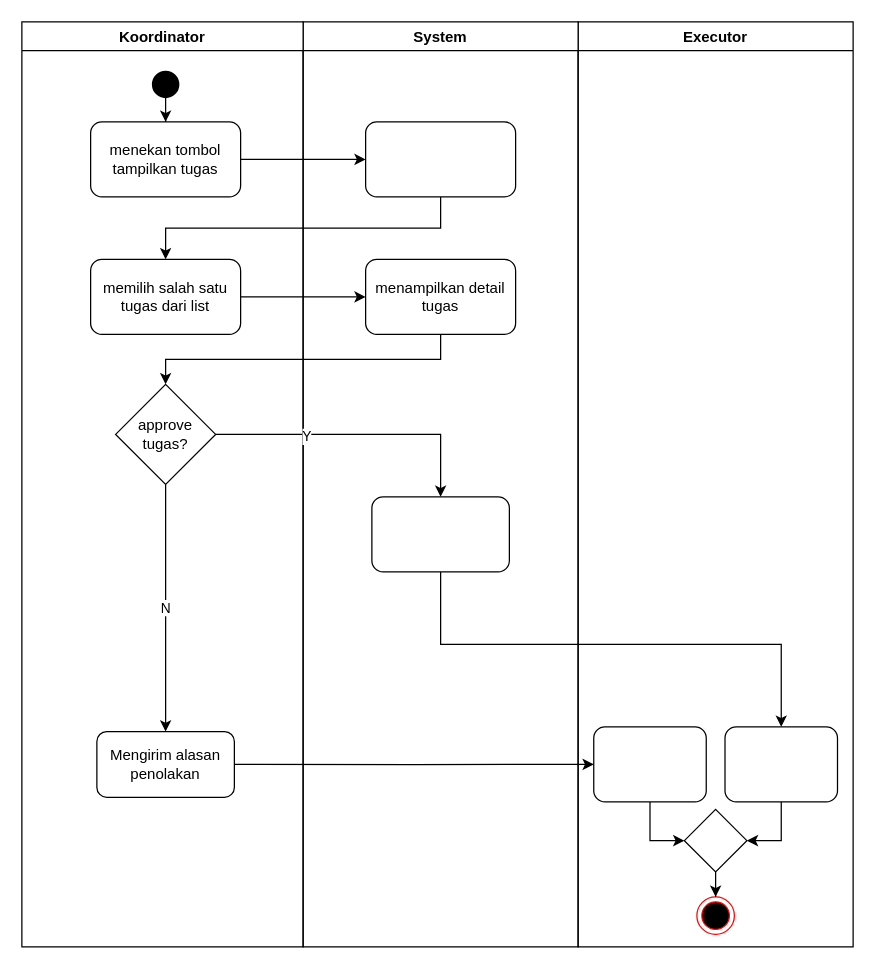
Some shapes in this 875 by 969 pixel diagram are drawn without their labels. The shapes that lost their labels are listed below. From the top down, each one's centre as x and y in pixels, then its label:
the point at 440,159: menampilkan list tugas
the point at 440,534: Simpan data tugas (tugas menjadi APPROVED)
the point at 649,764: Menerima notifikasi penolakan
the point at 781,764: menerima notifikasi approved
